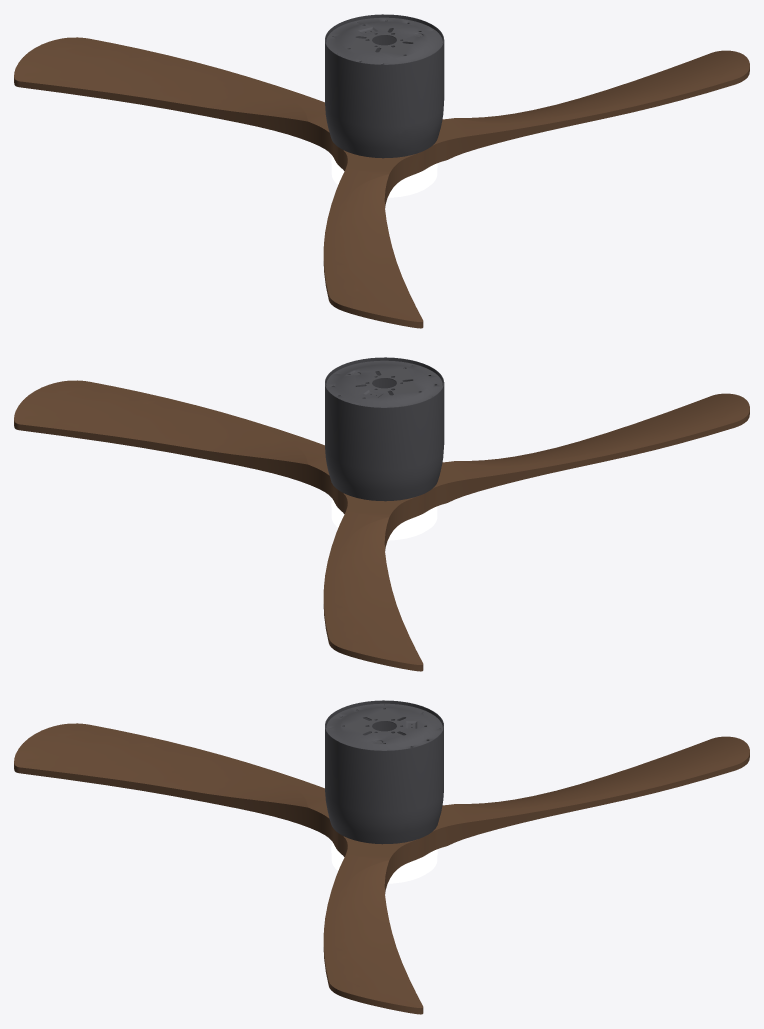
The model's file is fan-3372B.glb.
3 renders of one model, top to bottom at view 1: azimuth 30°, elevation 25°; view 2: azimuth 150°, elevation 25°; view 3: azimuth 270°, elevation 25°, orthographic.
Visible parts, largest first — view 1: blades, motor, canopy, led; view 2: blades, motor, canopy, led; view 3: blades, motor, canopy, led.
Part boxes in pixels (left/top/right/bottom): blades: left=14, top=37, right=749, bottom=328; motor: left=325, top=14, right=444, bottom=158; canopy: left=326, top=17, right=442, bottom=64; led: left=331, top=156, right=437, bottom=196; blades: left=14, top=380, right=749, bottom=671; motor: left=325, top=357, right=444, bottom=501; canopy: left=326, top=360, right=442, bottom=407; led: left=331, top=499, right=437, bottom=539; blades: left=14, top=723, right=749, bottom=1014; motor: left=325, top=700, right=443, bottom=844; canopy: left=326, top=703, right=442, bottom=750; led: left=331, top=842, right=437, bottom=882.
Size of the model in its own units: 1.05 by 0.2434 by 1.18.
